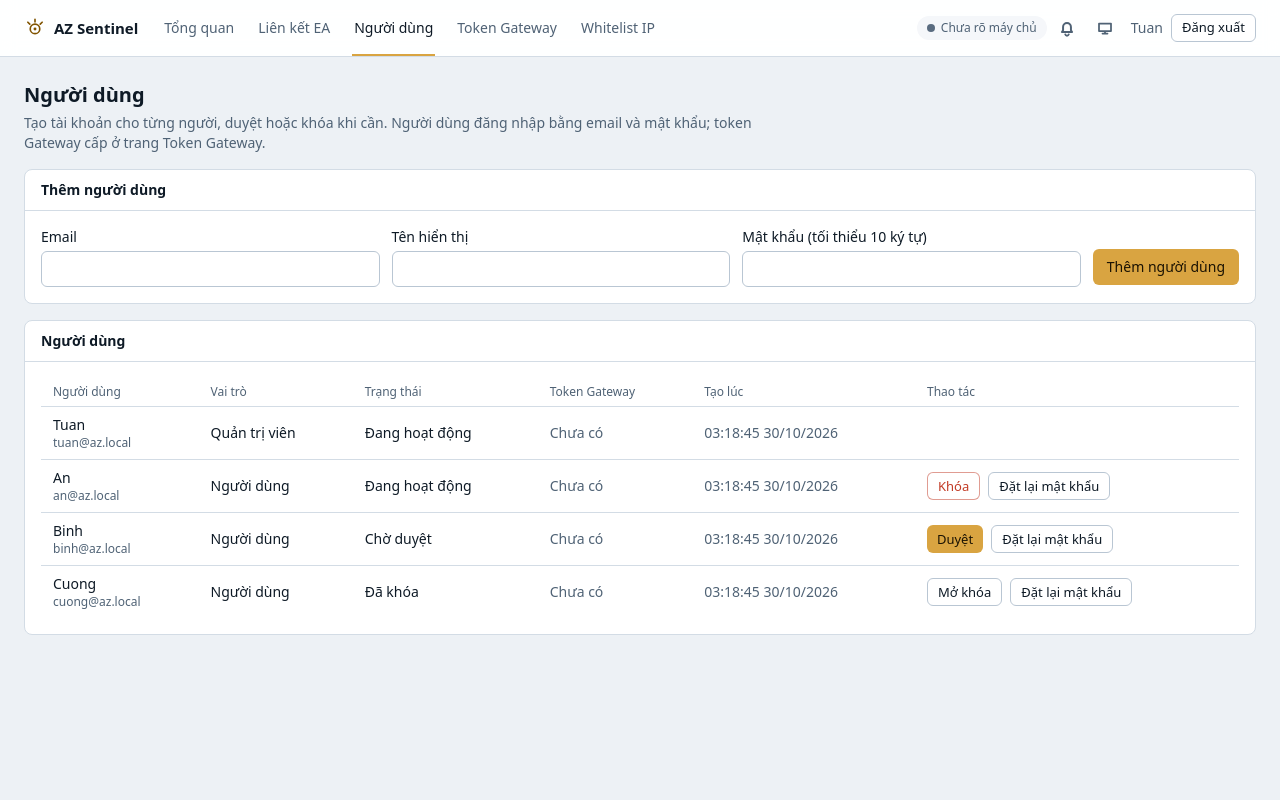
trang Người dùng (admin) › email trùng: hiện thông điệp của máy chủ
The width and height of the screenshot is (1280, 800).
Expected: the table is shown, [41,378,1239,618]
Type "an@az.local" into the field labelled "Email" at coordinates (210, 269), box [41,251,380,287]
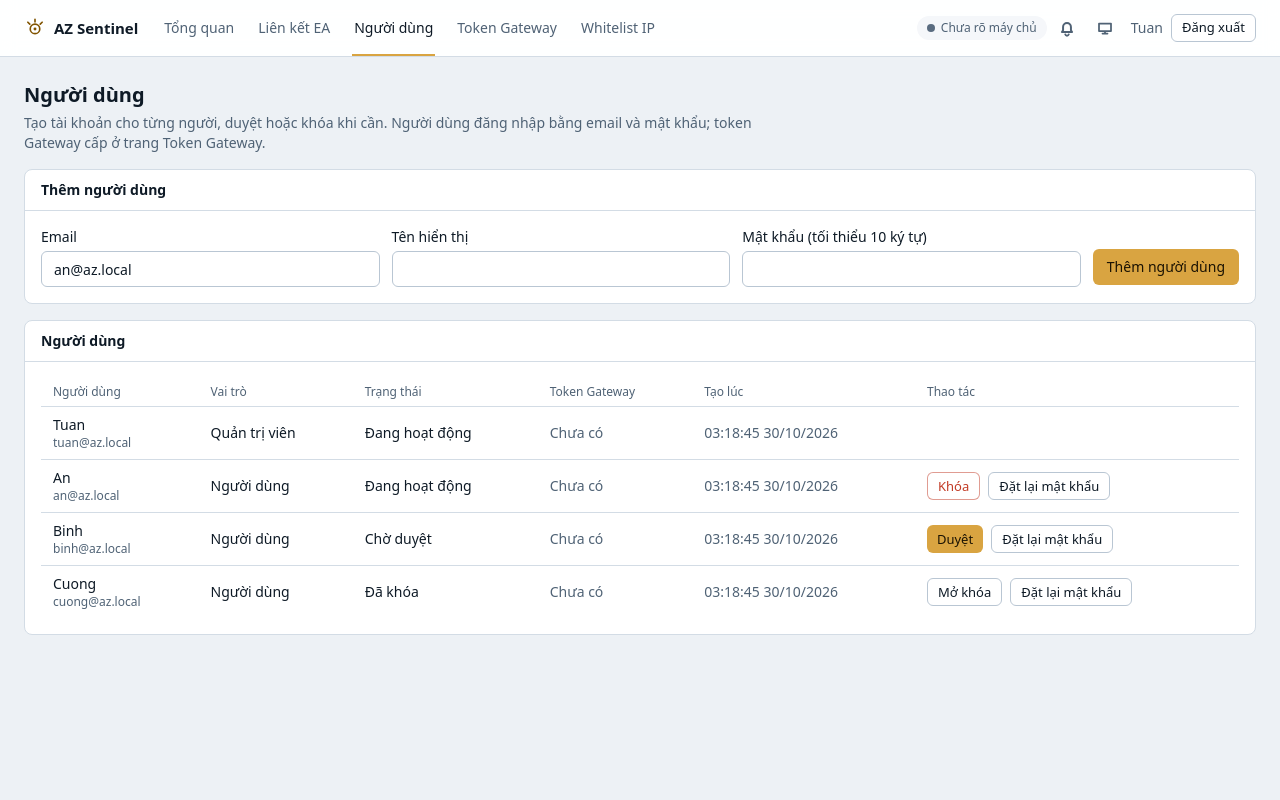
Type "An" into the field labelled "Tên hiển thị" at coordinates (561, 269), box [392,251,730,287]
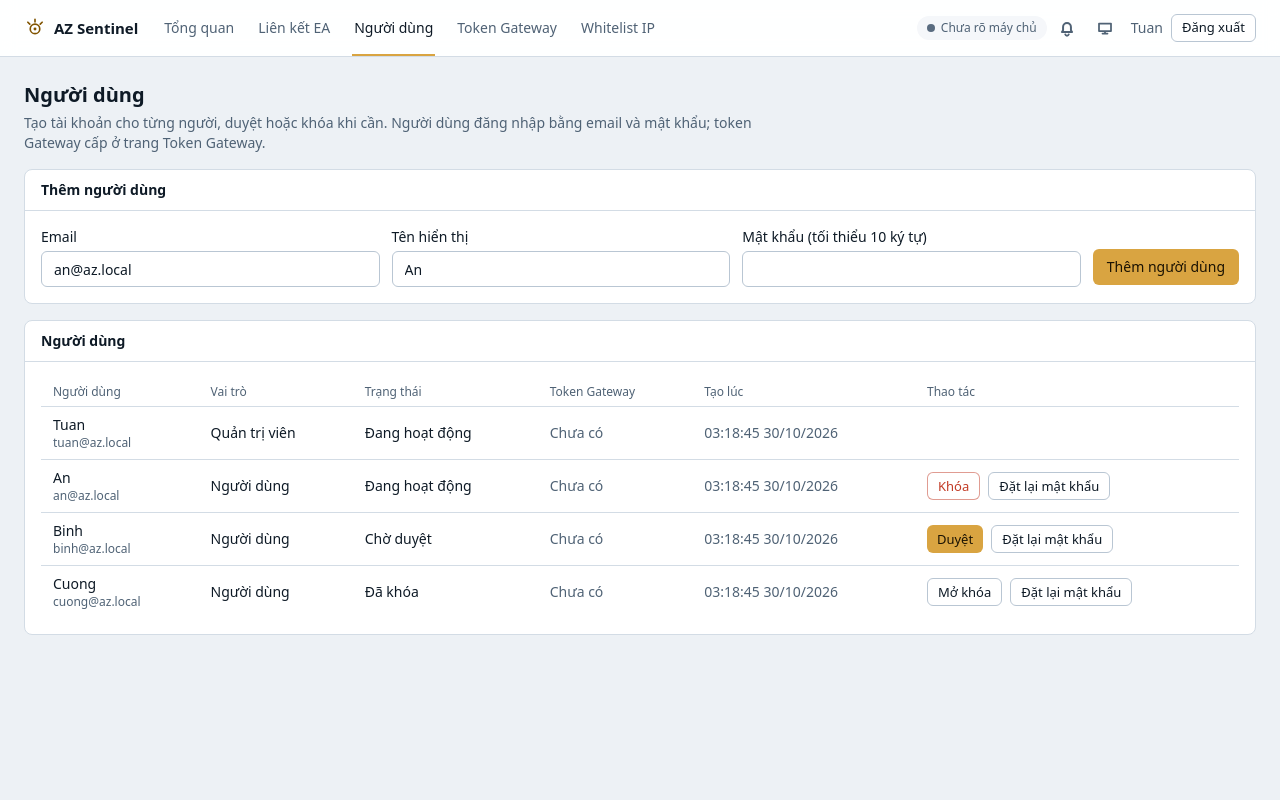
Type "mat-khau-dai-123" into the password field labelled "Mật khẩu (tối thiểu 10 ký tự)" at coordinates (912, 269), box [742,251,1081,287]
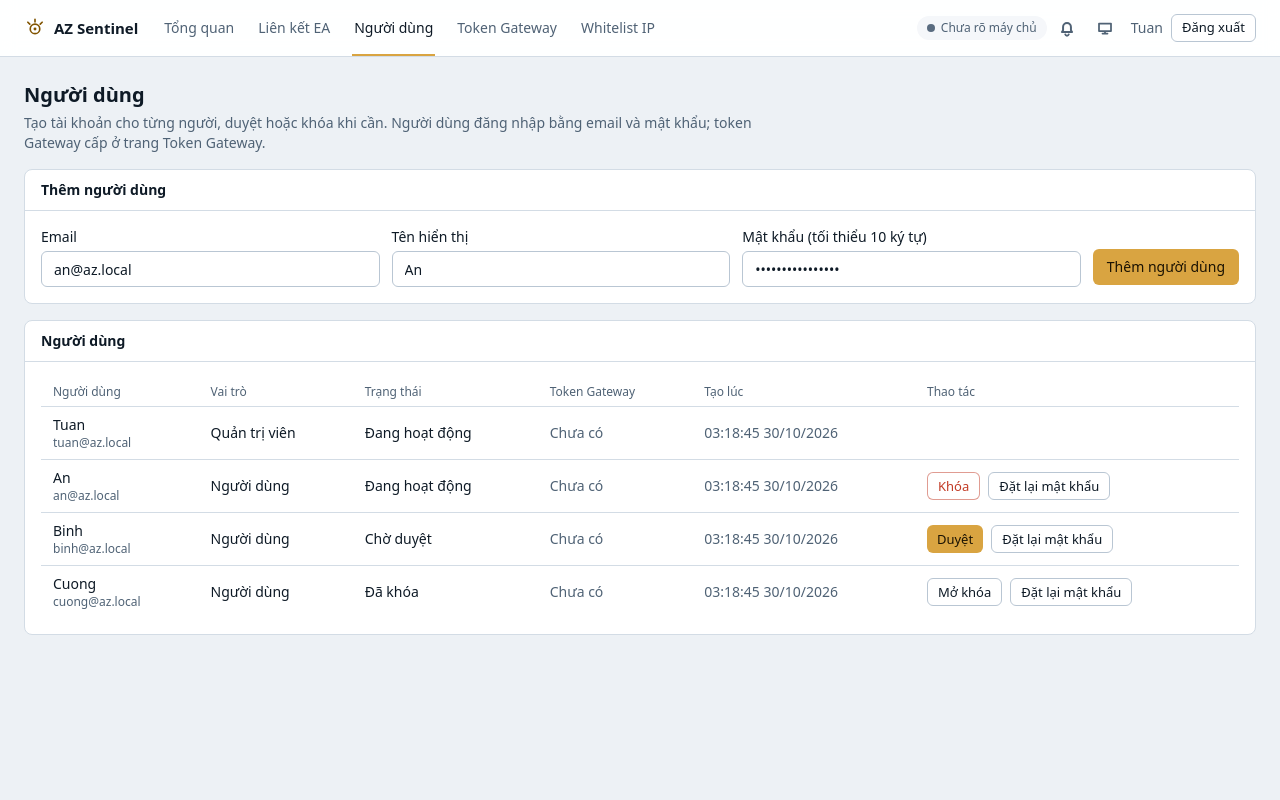
Click the button "Thêm người dùng" at coordinates (1166, 267), box [1093,249,1239,285]
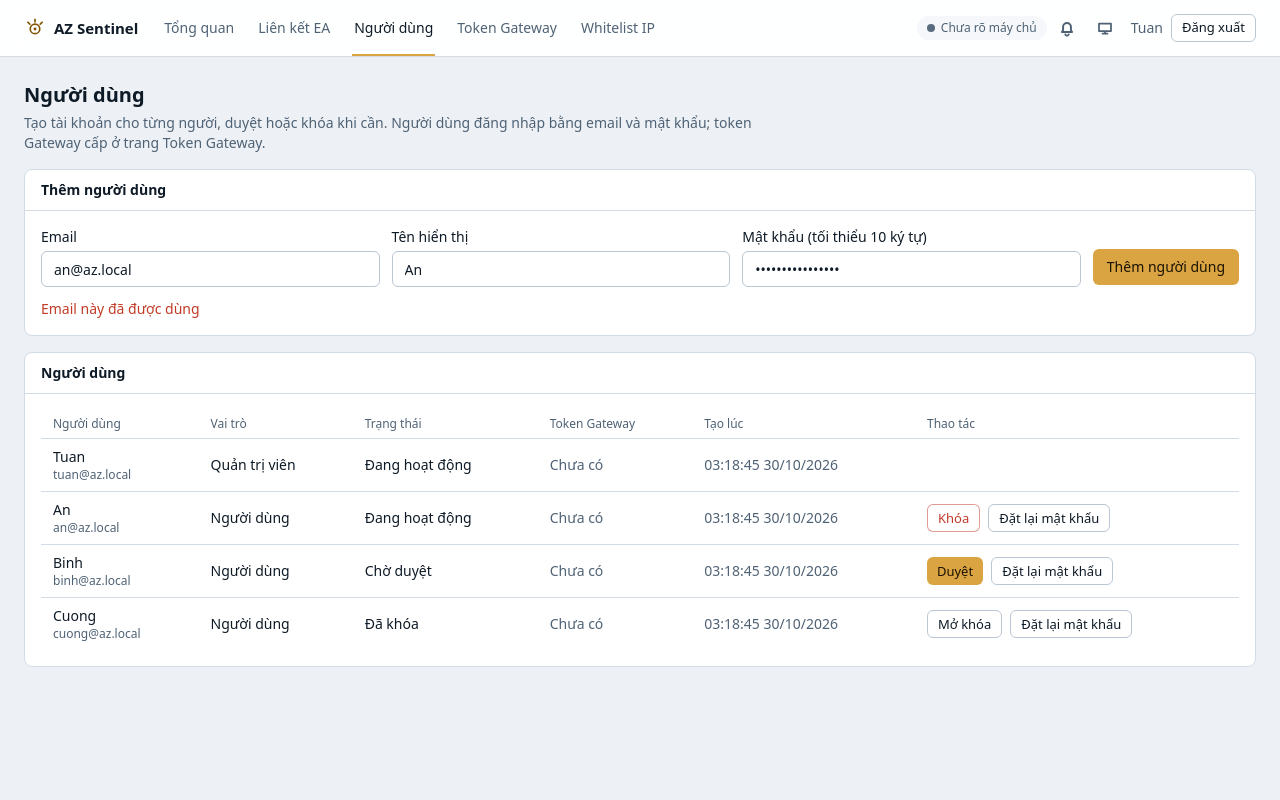
Expected: the text "Email này đã được dùng" is shown, [41,299,200,318]
